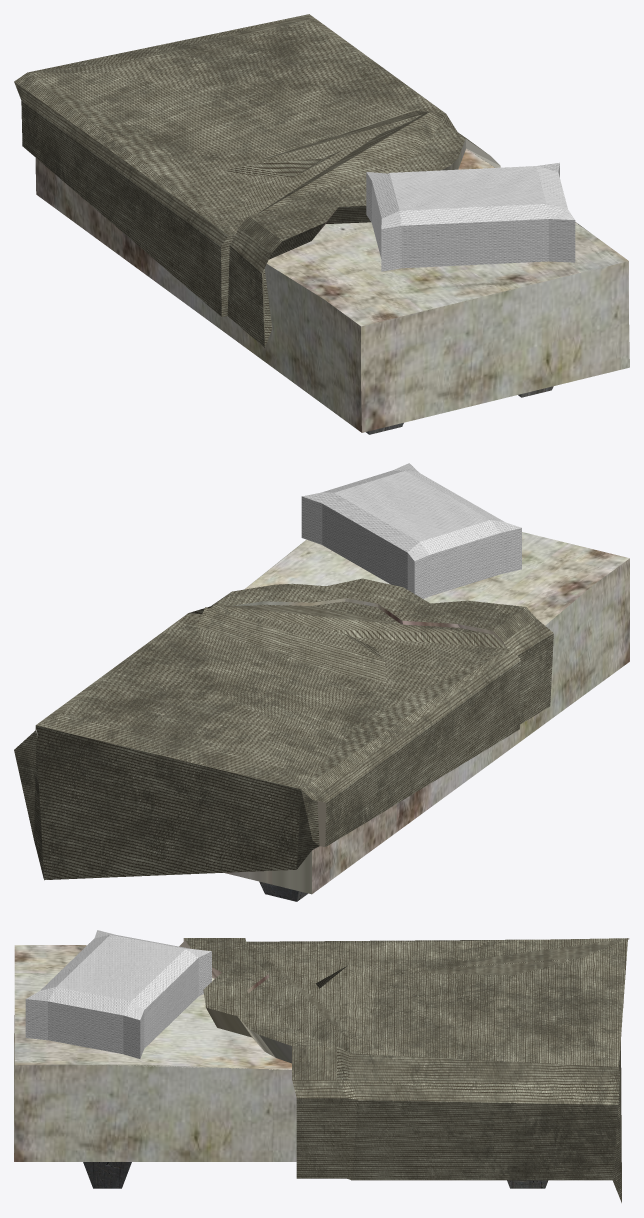
File: cama.glb
3 views of the same model, one above another, from view 1: azimuth 30°, elevation 25°; view 2: azimuth 150°, elevation 25°; view 3: azimuth 270°, elevation 25° (orthographic). The views are drawn at different scales.
Visible parts, largest first — view 1: Cube, Cube.001; view 2: Cube, Cube.001; view 3: Cube, Cube.001.
Boxes of the visible parts, x1,y1,x2,y2 form: Cube: (14, 14, 629, 434); Cube.001: (366, 162, 575, 271); Cube: (14, 532, 629, 901); Cube.001: (301, 463, 521, 598); Cube: (14, 938, 629, 1202); Cube.001: (25, 930, 211, 1058).
Size of the model in its own units: 4.32 by 2.72 by 7.99.
Materials: 4 (4 with a texture image).
